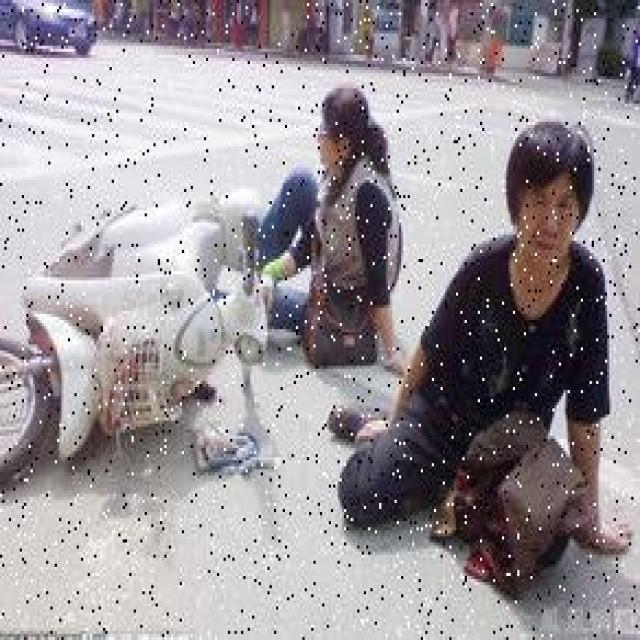fall: (342, 128, 620, 509), (261, 85, 401, 362)
